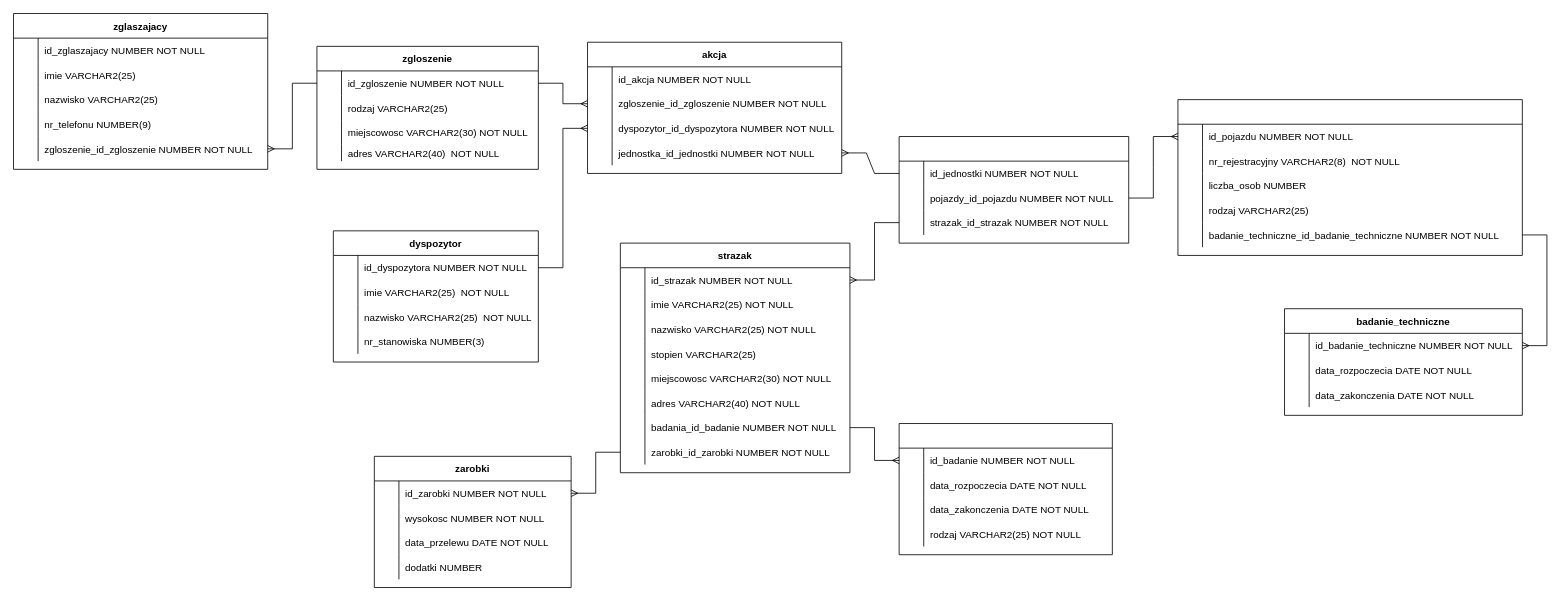
Image size: 1560x601. Some labels were removed from this diagram. Here are the shapes that lost their labels. From the top down, the box of each, then its label:
(898, 136, 1129, 243): jednostka
(1177, 99, 1522, 255): pojazdy
(898, 423, 1112, 555): badania
